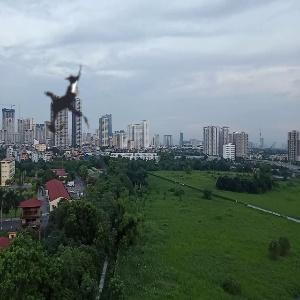drone: (7, 40, 134, 167)
